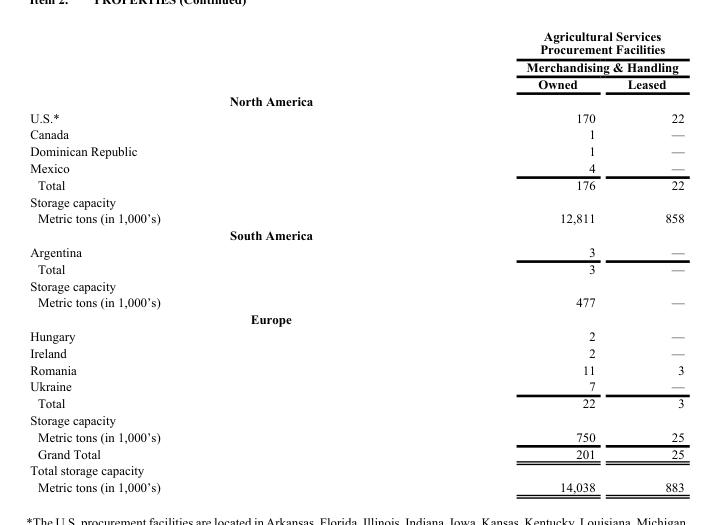table: (29, 28, 683, 493)
table column: (29, 28, 342, 493), (342, 28, 610, 493), (610, 28, 683, 493)
table column header: (29, 28, 683, 91)
table projected row header: (29, 91, 683, 108), (29, 192, 683, 209), (29, 226, 683, 243), (29, 276, 683, 293), (29, 310, 683, 327), (29, 461, 683, 478), (29, 411, 683, 427)
table row: (29, 28, 683, 75), (29, 91, 683, 108), (29, 108, 683, 125), (29, 125, 683, 142), (29, 142, 683, 159), (29, 159, 683, 176), (29, 192, 683, 209), (29, 209, 683, 226), (29, 226, 683, 243), (29, 243, 683, 260), (29, 276, 683, 293), (29, 293, 683, 310), (29, 310, 683, 327), (29, 327, 683, 344), (29, 360, 683, 377), (29, 377, 683, 394), (29, 394, 683, 411), (29, 427, 683, 444), (29, 444, 683, 461), (29, 461, 683, 478), (29, 75, 683, 91), (29, 176, 683, 192), (29, 260, 683, 276), (29, 344, 683, 360), (29, 411, 683, 427), (29, 478, 683, 493)
table spanning cell: (342, 28, 683, 75)
